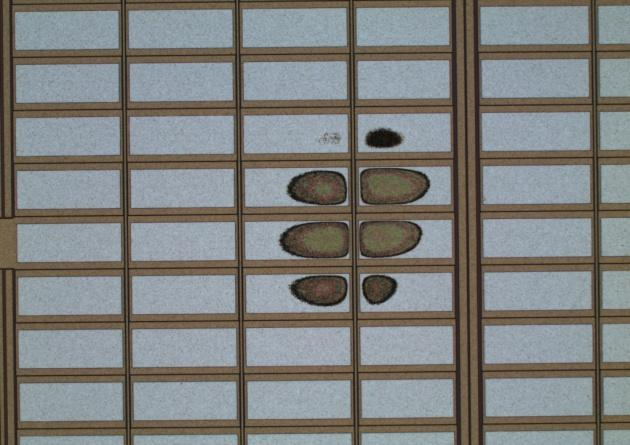BLOCK ETCH: (274, 115, 440, 317)
